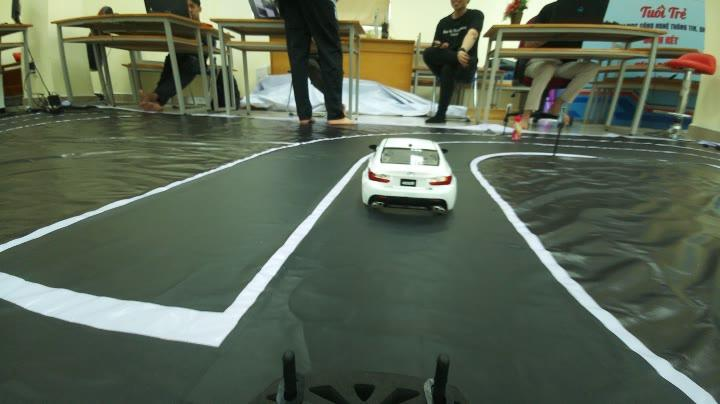car: (356, 130, 468, 214)
